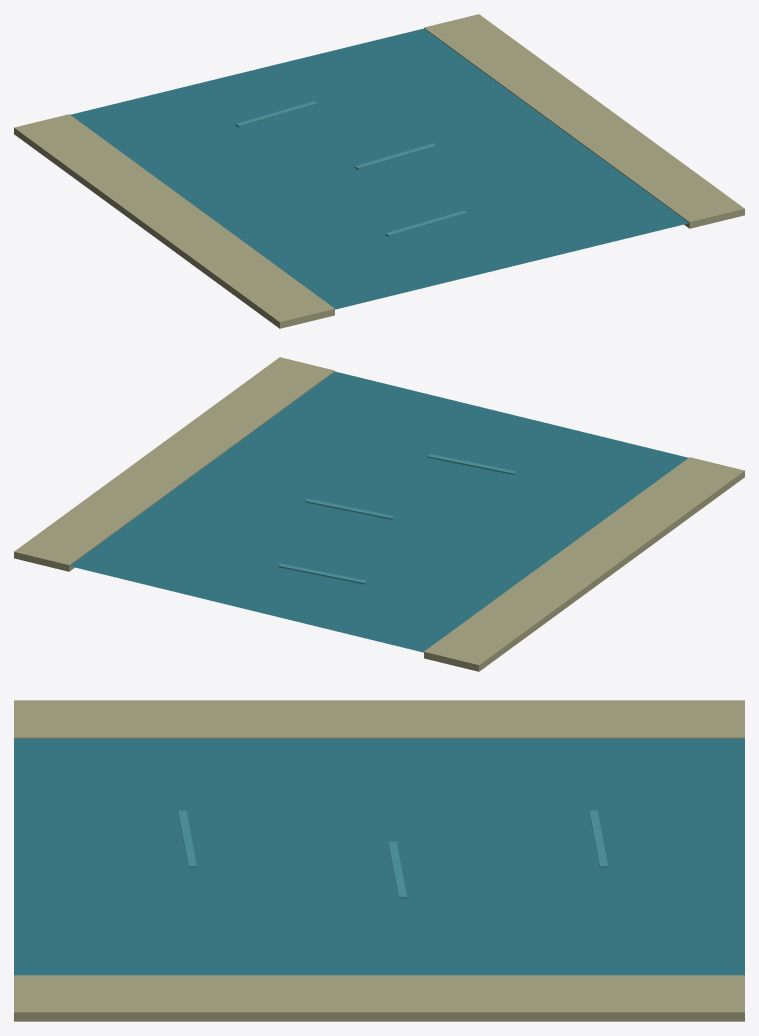
The model's file is world_river_tile.glb.
3 views of the same model, one above another, from view 1: azimuth 30°, elevation 25°; view 2: azimuth 150°, elevation 25°; view 3: azimuth 270°, elevation 25° (orthographic). The views are drawn at different scales.
Parts seen in each view (by area): view 1: river_channel, west_bank, east_bank; view 2: river_channel, west_bank, east_bank; view 3: river_channel, east_bank, west_bank, current_0, current_2, current_1.
Part boxes in pixels (left/top/right/bottom): river_channel: left=70, top=28, right=689, bottom=309; west_bank: left=14, top=114, right=334, bottom=328; east_bank: left=424, top=14, right=744, bottom=228; river_channel: left=69, top=371, right=688, bottom=652; west_bank: left=424, top=457, right=744, bottom=671; east_bank: left=14, top=357, right=334, bottom=571; river_channel: left=14, top=738, right=744, bottom=975; east_bank: left=14, top=975, right=744, bottom=1021; west_bank: left=14, top=700, right=744, bottom=738; current_0: left=589, top=810, right=607, bottom=868; current_2: left=178, top=810, right=196, bottom=868; current_1: left=388, top=841, right=406, bottom=898.
Size of the model in its own units: 4.04 by 0.0705 by 4.
